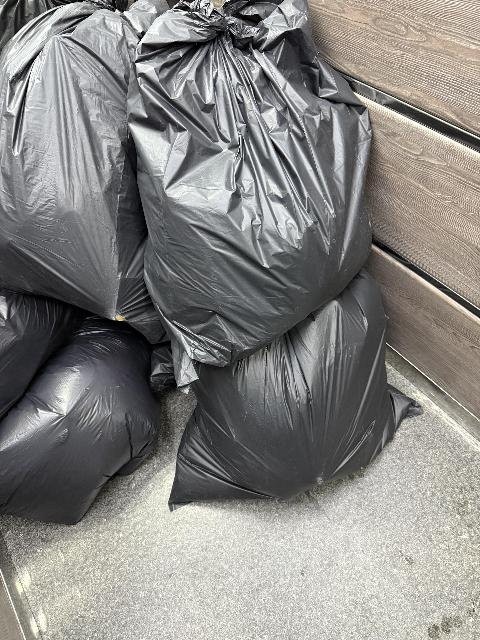Plastik: (170, 0, 373, 370), (0, 28, 161, 299), (185, 292, 392, 496), (7, 335, 183, 514), (0, 283, 43, 409)
